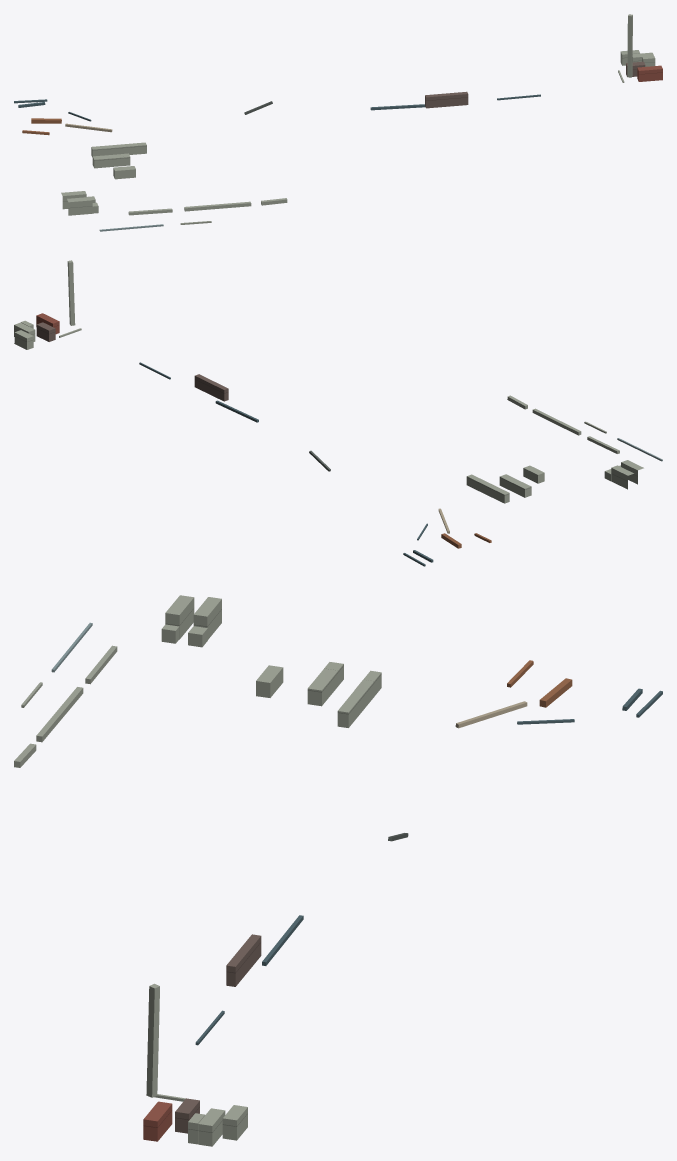
Rendered from terminal-80---18_14.glb.
3 views of the same model, one above another, from view 1: azimuth 30°, elevation 25°; view 2: azimuth 150°, elevation 25°; view 3: azimuth 270°, elevation 25° (orthographic). The views are drawn at different scales.
Parts seen in each view (by area): view 1: measured-industrial; view 2: measured-industrial; view 3: measured-industrial.
Boxes of the visible parts, <box> form: measured-industrial: <box>14,14,662,231</box>; measured-industrial: <box>14,260,662,566</box>; measured-industrial: <box>14,595,662,1146</box>.
Bounding box in the file's own units: 223 × 26.33 × 116.
